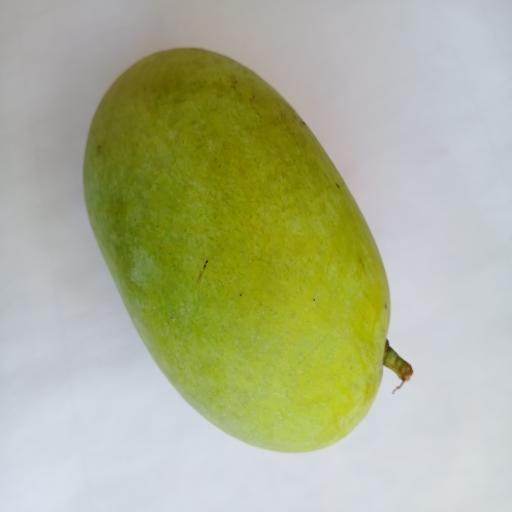mango-unripe: (70, 24, 434, 470)
